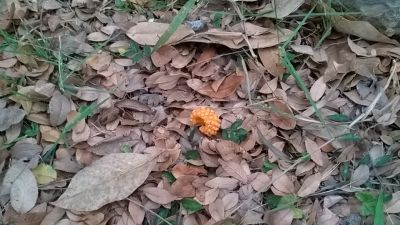eggs: (189, 105, 221, 136)
